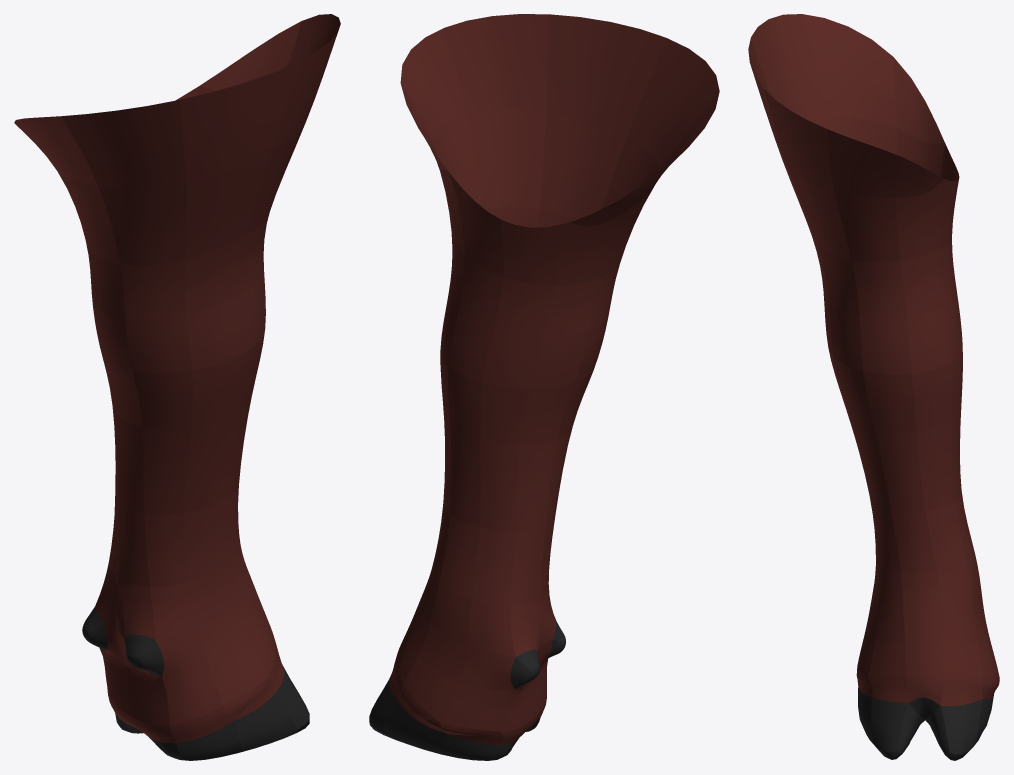
File: F_horse.fbx
The picture shows the model from 3 angles, left to right: view 1: azimuth 30°, elevation 25°; view 2: azimuth 150°, elevation 25°; view 3: azimuth 270°, elevation 25°; orthographic projection. The views are drawn at different scales.
Parts seen in each view (by area): view 1: HORSEfront.001; view 2: HORSEfront.001; view 3: HORSEfront.001.
Boxes of the visible parts, left/top/right/bottom form: HORSEfront.001: left=14, top=14, right=340, bottom=760; HORSEfront.001: left=369, top=14, right=719, bottom=760; HORSEfront.001: left=748, top=14, right=999, bottom=760.
Size of the model in its own units: 92.55 by 117 by 260.
